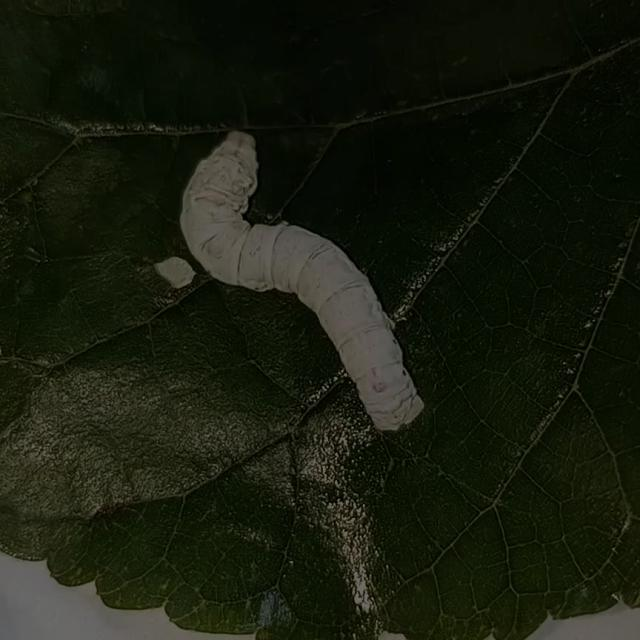Healthy: (154, 104, 443, 481)
